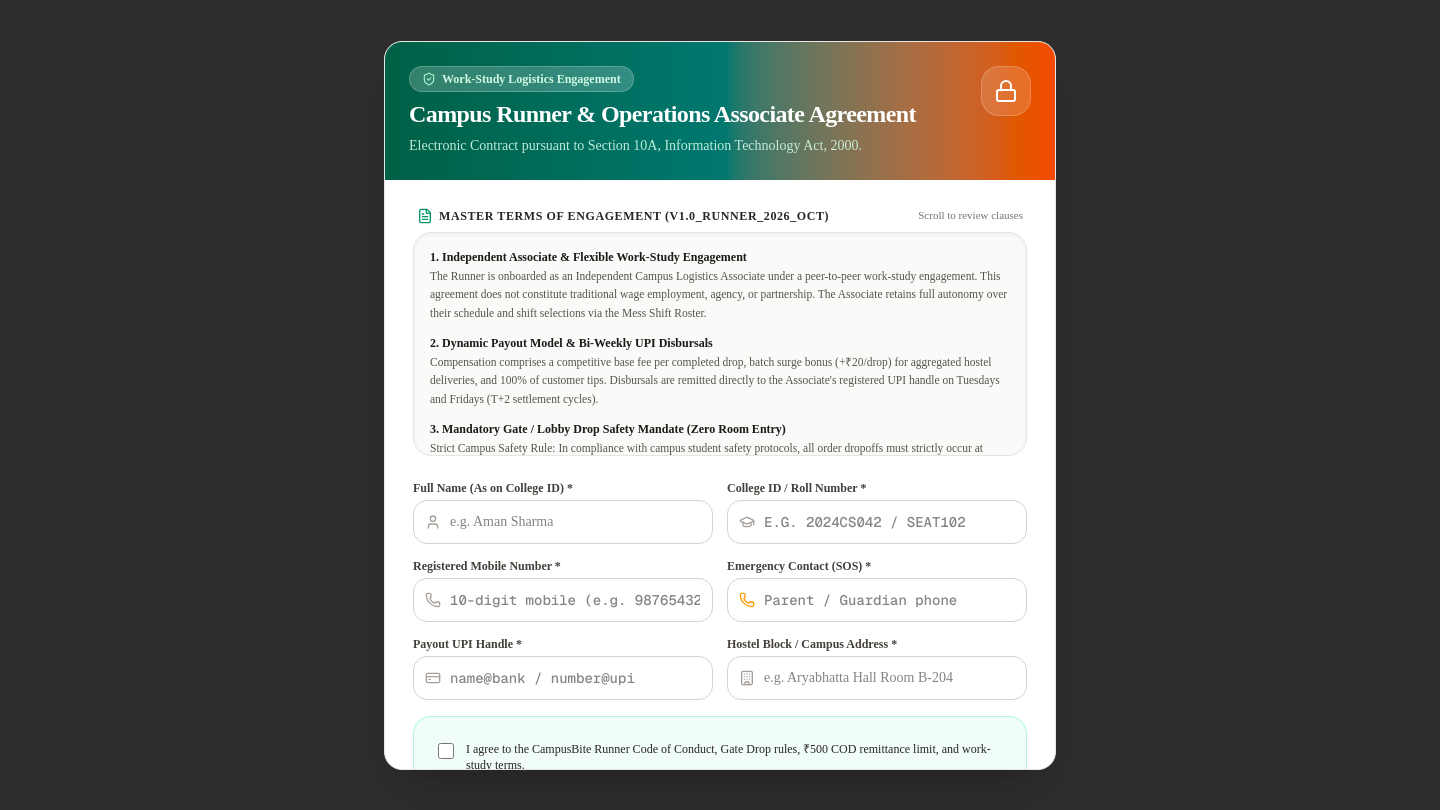
Test case: RunnerAgreementModal › enables submit button only when all 6 fields and consent checkbox are valid
Note: Fill Name
Type "Aman Runner" into the field labelled "Full Name (As on College ID) *" at point(563, 522), box [413,500,713,544]
Note: Fill College ID
Type "2024CS012" into the field labelled "College ID / Roll Number *" at point(877, 522), box [727,500,1027,544]
Note: Fill Phone
Type "9876543210" into the field labelled "Registered Mobile Number *" at point(563, 600), box [413,578,713,622]
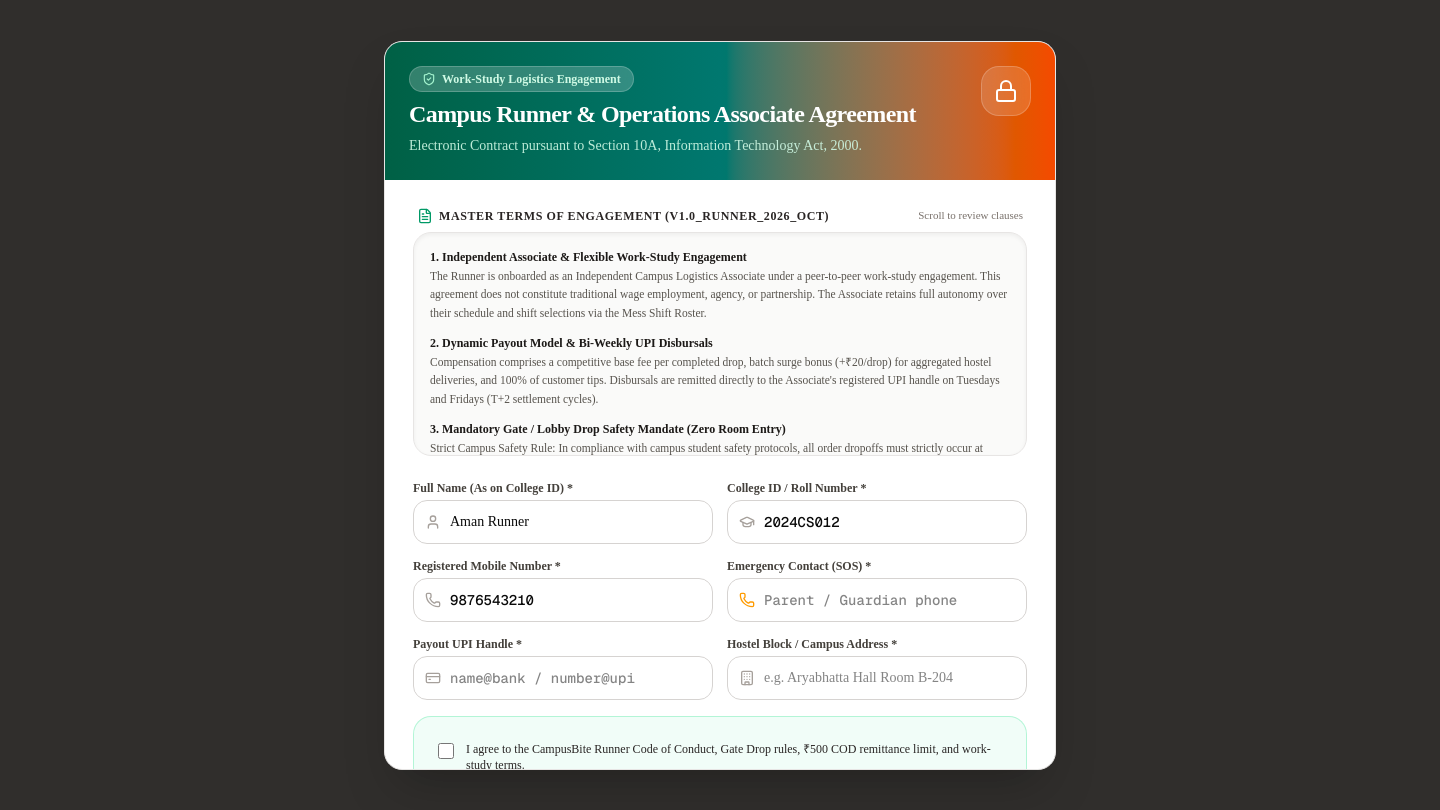
Note: Fill Emergency Contact
Type "9876500000" into the field labelled "Emergency Contact (SOS) *" at point(877, 600), box [727,578,1027,622]
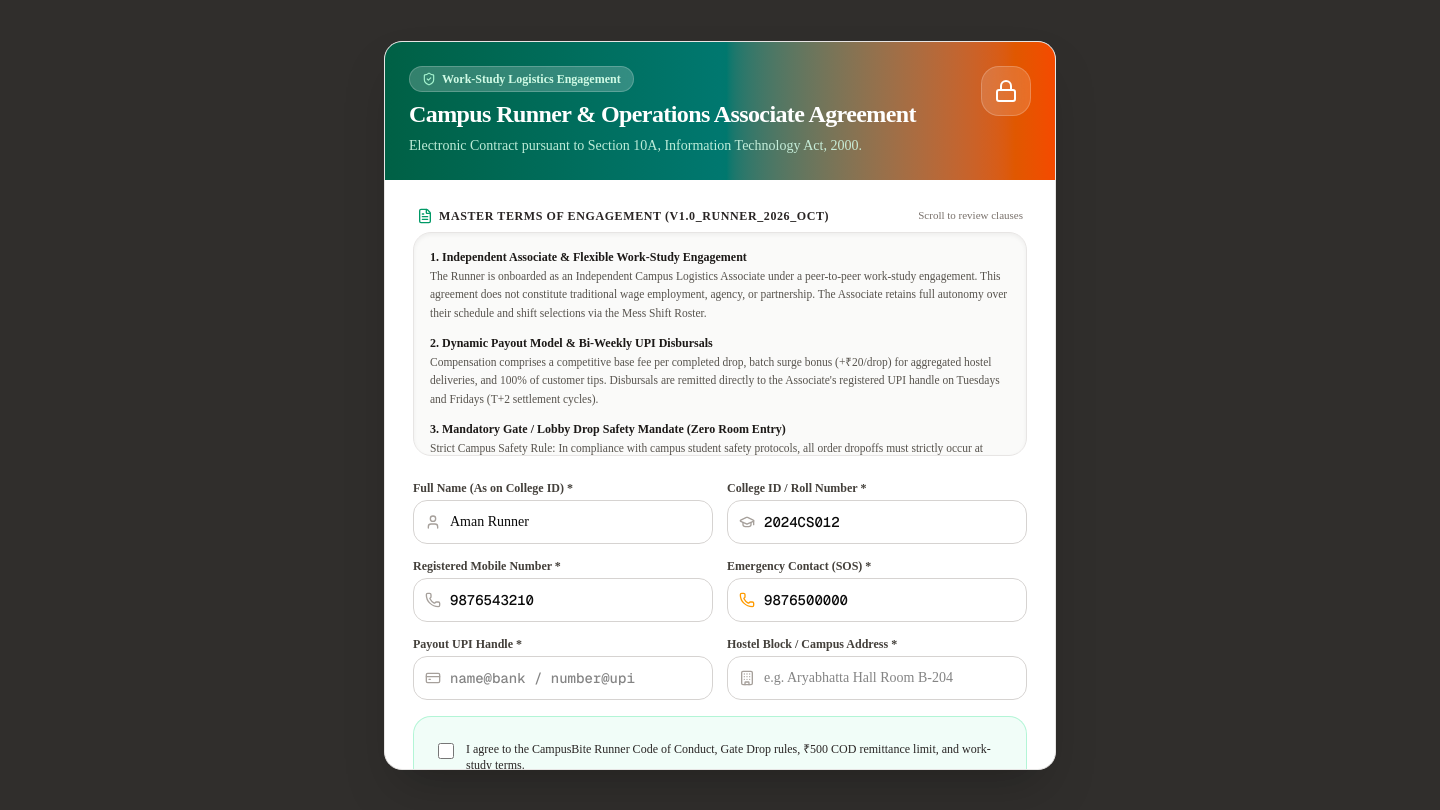
Note: Fill invalid UPI handle
Type "invalid-upi" into the field labelled "Payout UPI Handle *" at point(563, 678), box [413,656,713,700]
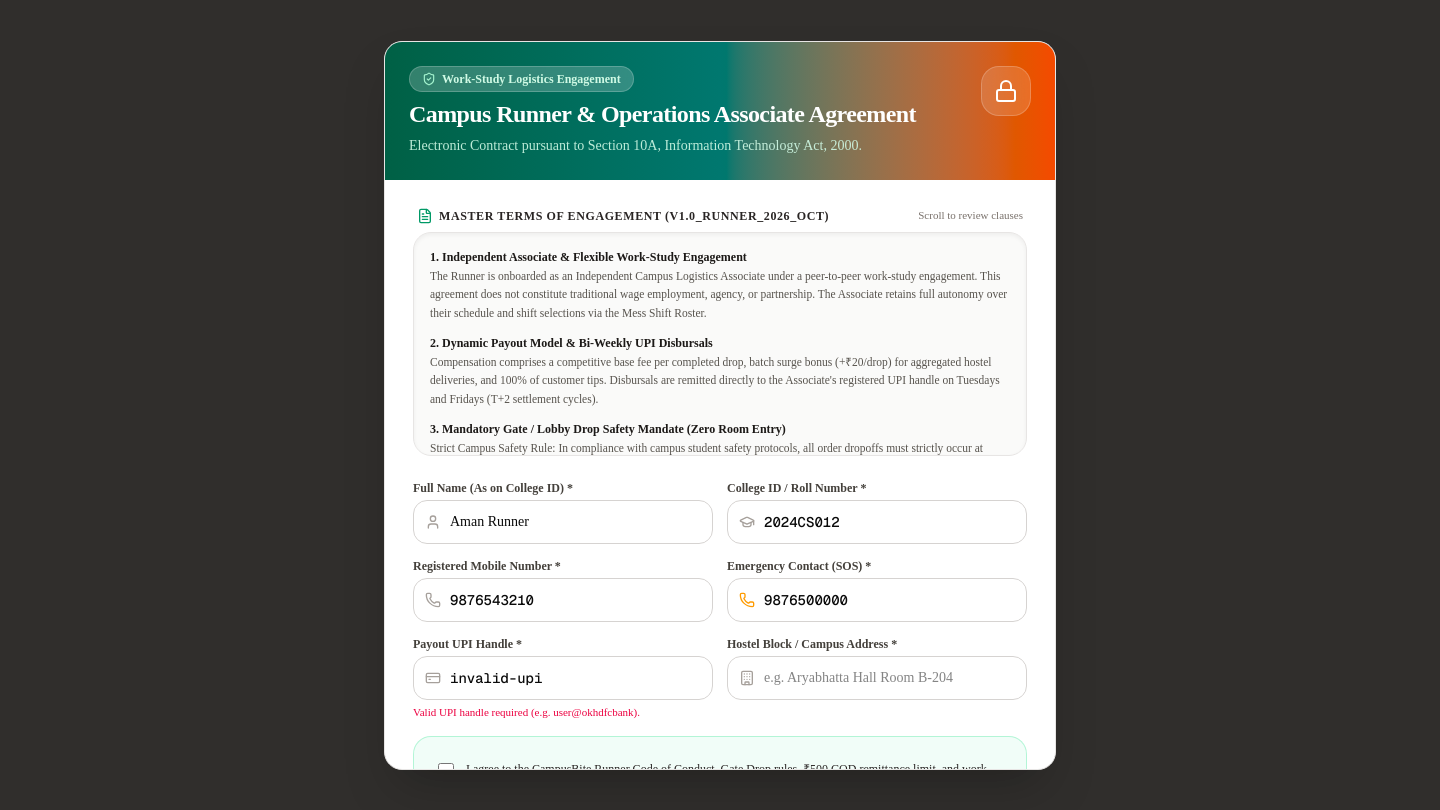
Note: Fill valid UPI handle
Replace the text in the field labelled "Payout UPI Handle *" with "aman@okaxis" at point(563, 678), box [413,656,713,700]
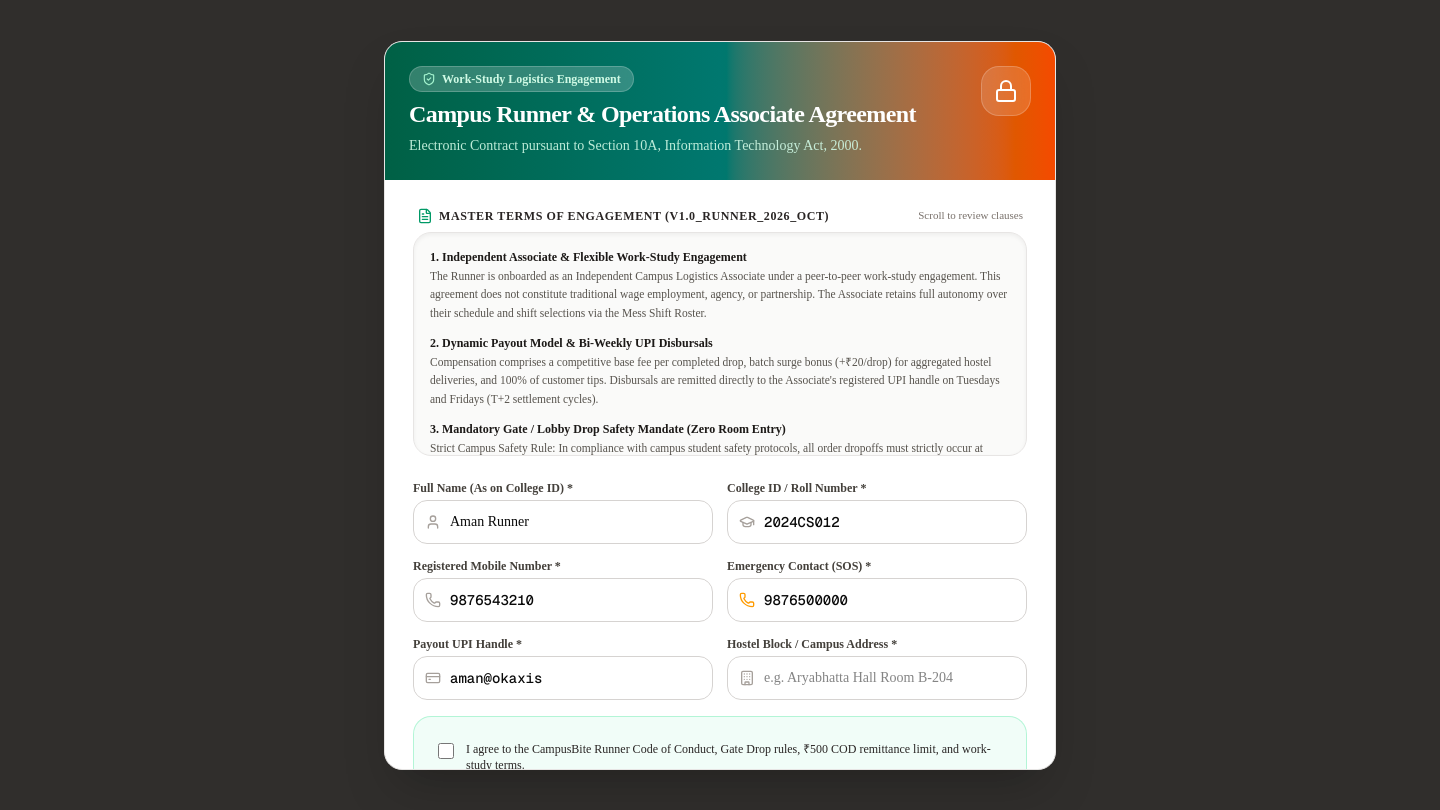
Note: Fill Hostel Block
Type "Aryabhatta Hall B-204" into the field labelled "Hostel Block / Campus Address *" at point(877, 678), box [727,656,1027,700]
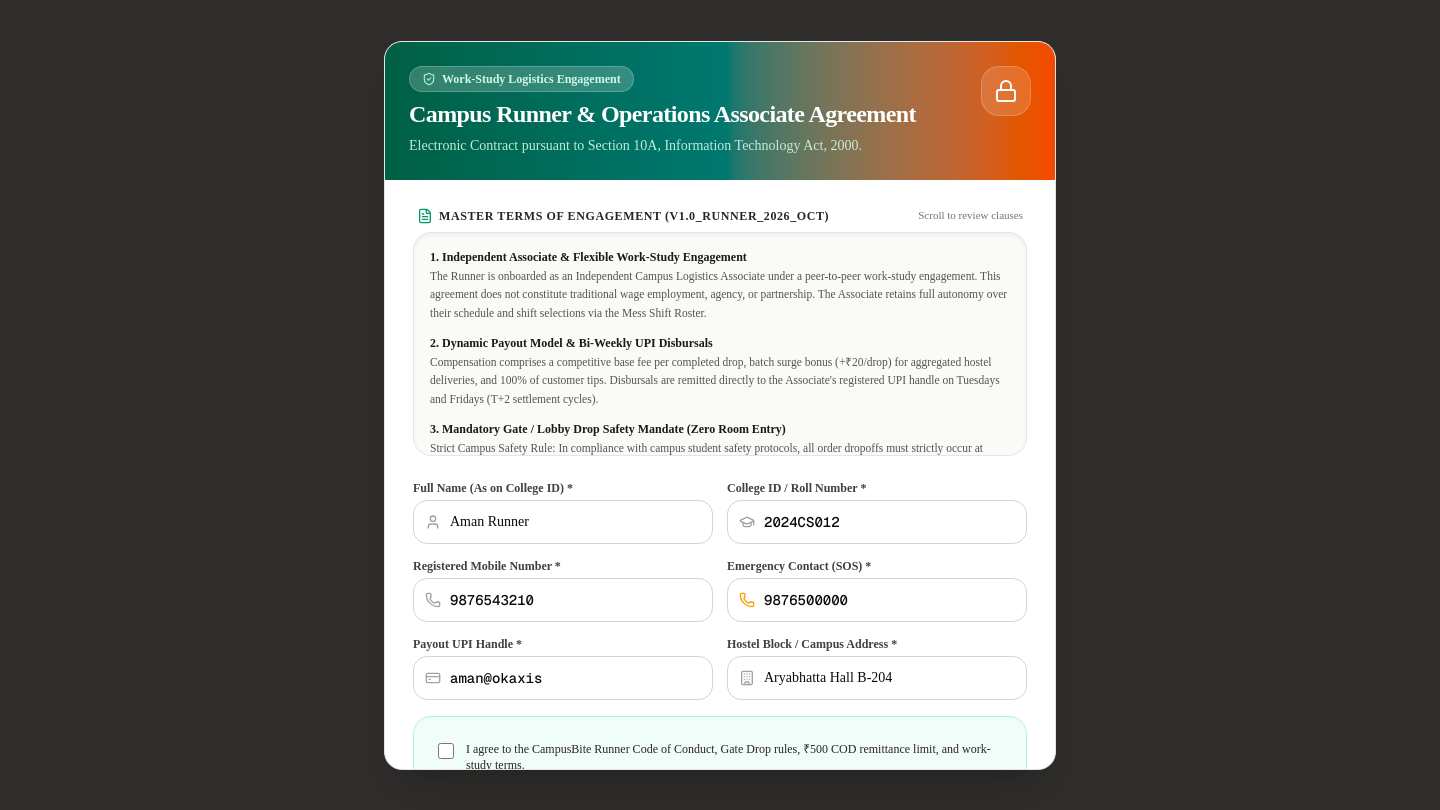
Note: Tick Affirmative Consent Checkbox
Click the checkbox at point(446, 750), box [438,742,454,758]
(page scrolled)
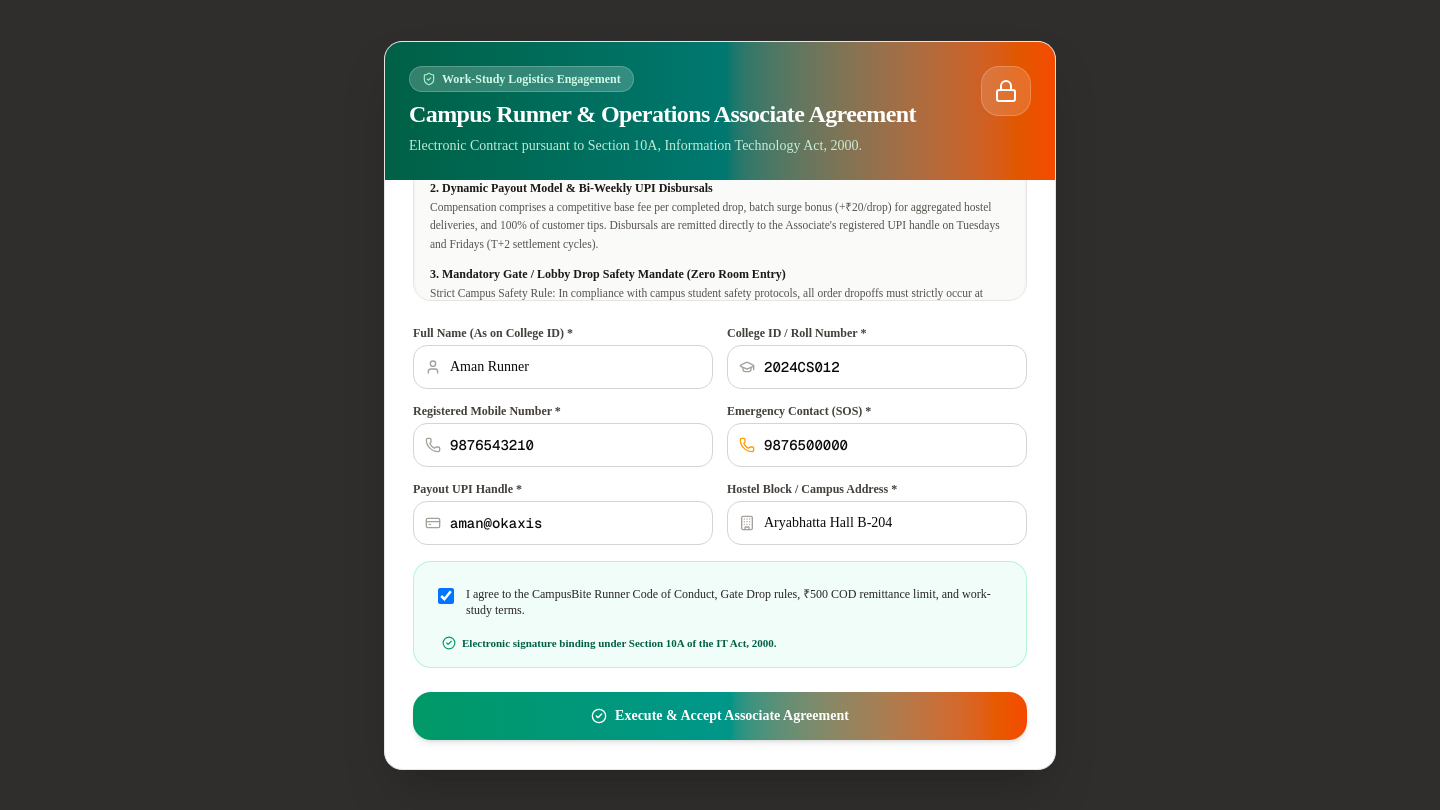
expect the checkbox is checked: met, box [438,588,454,604]
expect the button "Execute & Accept Associate Agreement" is enabled: met, box [413,692,1027,740]
